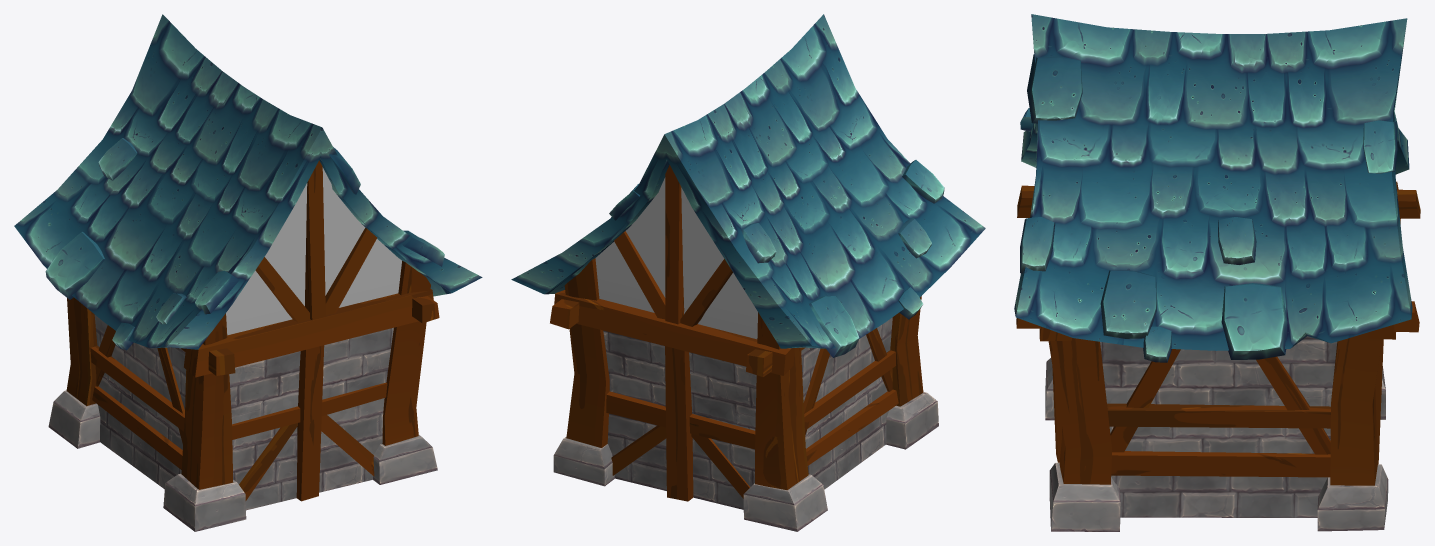
Rendered from SM_BLD_body_v03_01.fbx.
3 renders of one model, left to right at view 1: azimuth 30°, elevation 25°; view 2: azimuth 150°, elevation 25°; view 3: azimuth 270°, elevation 25°, orthographic. The views are drawn at different scales.
Parts seen in each view (by area): view 1: SM_BLD_body_v03_01; view 2: SM_BLD_body_v03_01; view 3: SM_BLD_body_v03_01.
Part boxes in pixels (box(x1,y1,x2,y2)): SM_BLD_body_v03_01: box(14, 14, 482, 531); SM_BLD_body_v03_01: box(511, 14, 985, 531); SM_BLD_body_v03_01: box(1014, 14, 1420, 531).
Size of the model in its own units: 722 by 836 by 690.
